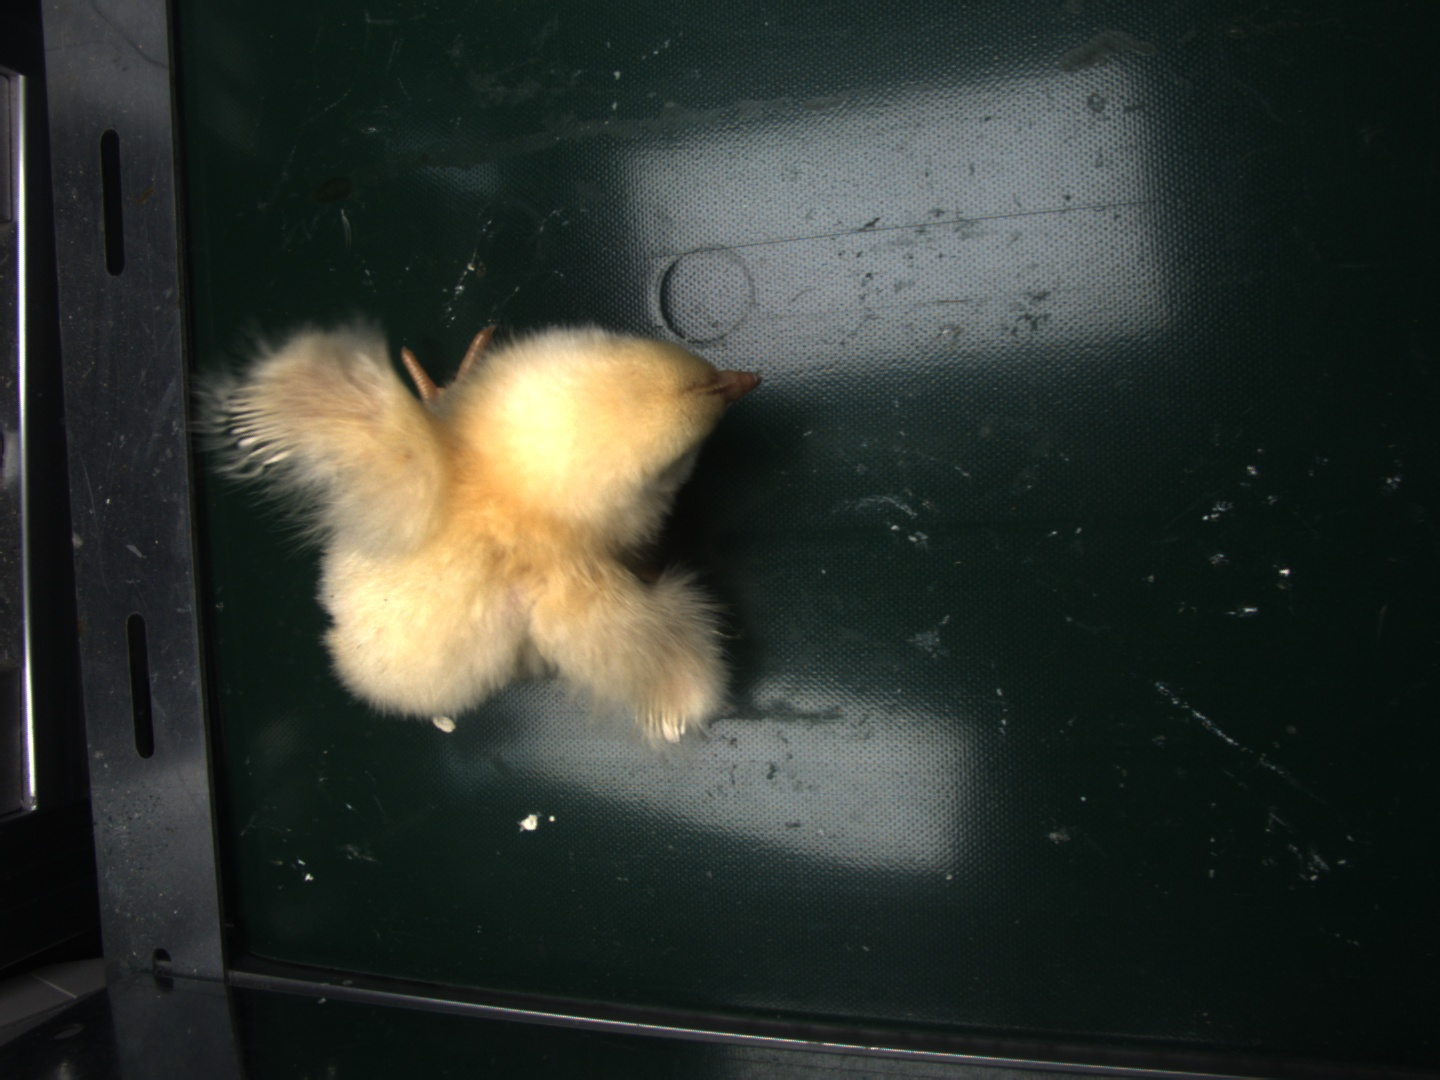male: (226, 387, 293, 473)
